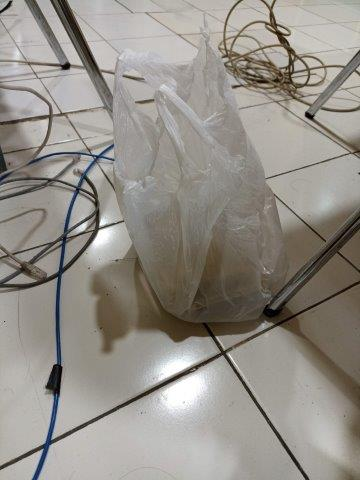plastik: (113, 33, 288, 320)
